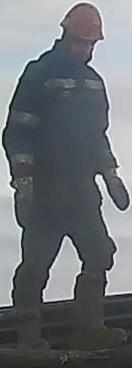gloves: (7, 173, 37, 232), (101, 162, 132, 215)
helmet: (56, 0, 106, 43)
vest: (2, 58, 103, 208)
